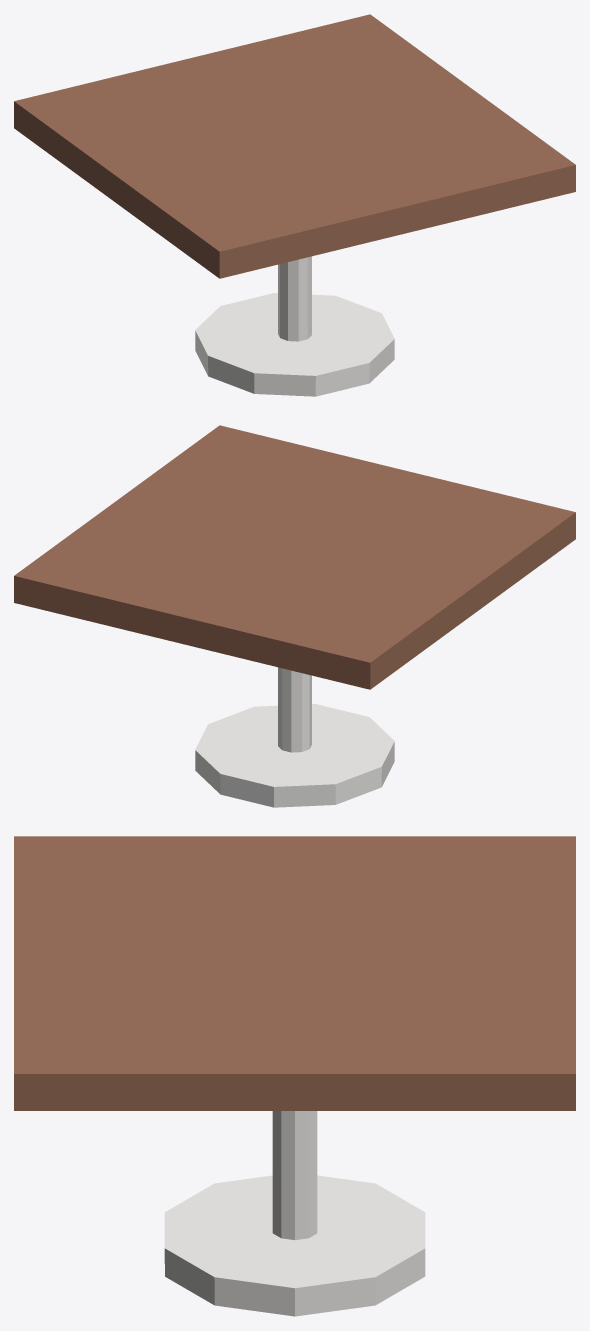
File: fbx_restaurant_table1.fbx
3 views of the same model, one above another, from view 1: azimuth 30°, elevation 25°; view 2: azimuth 150°, elevation 25°; view 3: azimuth 270°, elevation 25° (orthographic). The views are drawn at different scales.
Visible parts, largest first — view 1: fbx_restaurant_table1; view 2: fbx_restaurant_table1; view 3: fbx_restaurant_table1.
Part boxes in pixels (bbox=[...]): fbx_restaurant_table1: bbox=[14, 14, 575, 396]; fbx_restaurant_table1: bbox=[14, 425, 575, 807]; fbx_restaurant_table1: bbox=[14, 836, 575, 1316].
Size of the model in its own units: 2.13 by 1.27 by 2.13.
Materials: 1 (1 with a texture image).
